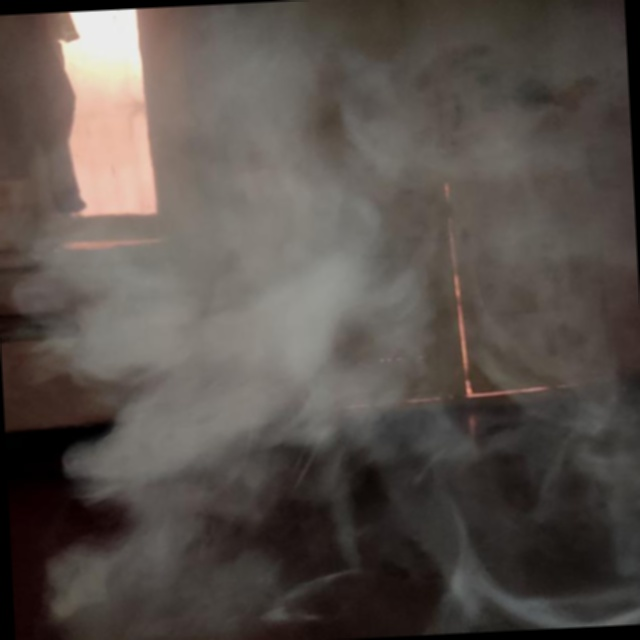smoke: (49, 44, 535, 565)
